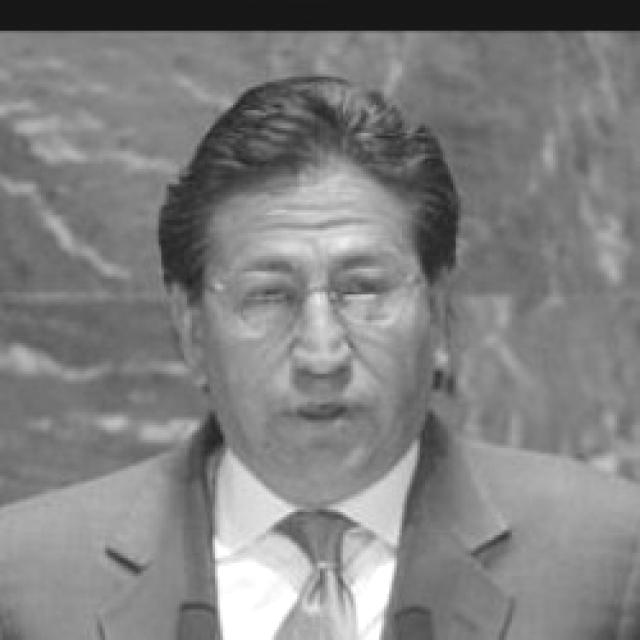real: (202, 168, 437, 492), (225, 269, 402, 325)
